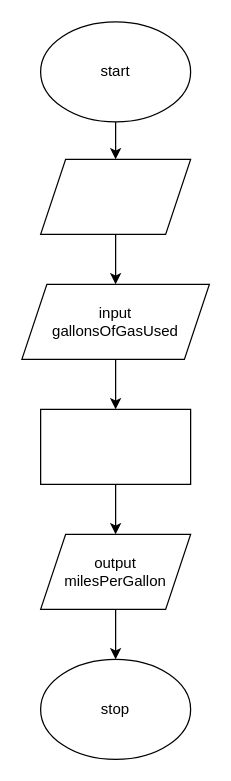
The diagram is 231 pixels wide and 781 high, and some of its shapes have lost their labels. The box of each missing label's shape, as (x1, y1, x2, y2) in pixels:
input milesTraveled: (39, 158, 191, 234)
milesPerGallon = milesTraveled / gallongOfGasUsed: (39, 408, 191, 484)
